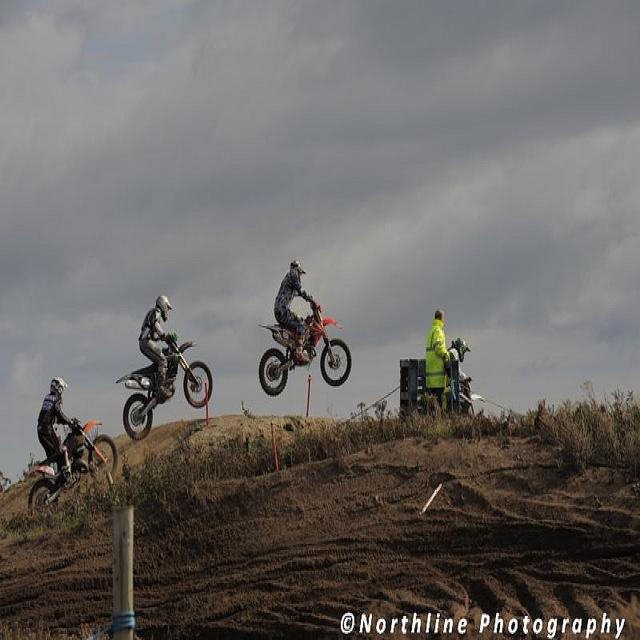motor: (115, 333, 213, 441), (260, 297, 351, 395), (29, 423, 119, 512), (459, 375, 486, 416)
